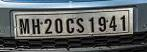0: (55, 18, 63, 34)
1: (119, 15, 126, 31), (88, 17, 94, 33)
2: (44, 19, 52, 34)
4: (109, 15, 117, 31)
9: (98, 16, 106, 32)
C: (66, 18, 74, 33)
H: (31, 18, 41, 35)
M: (19, 18, 30, 35)
S: (76, 18, 84, 33)
